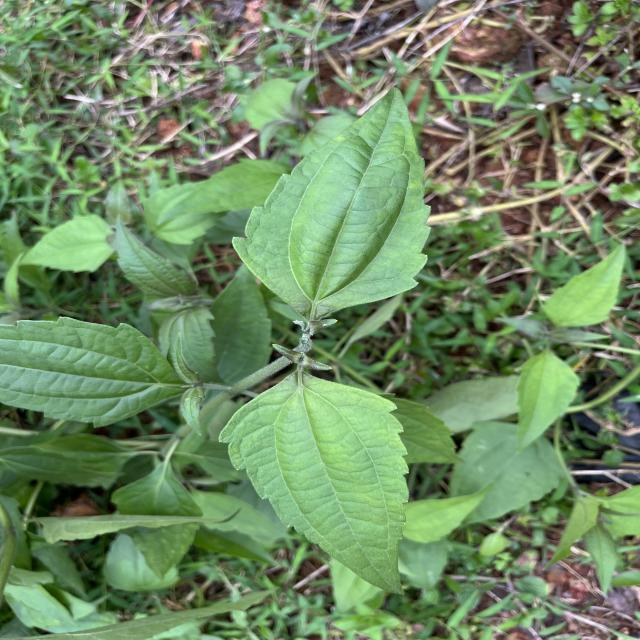Chromolaena odorata: (226, 83, 436, 324), (214, 366, 416, 598)
